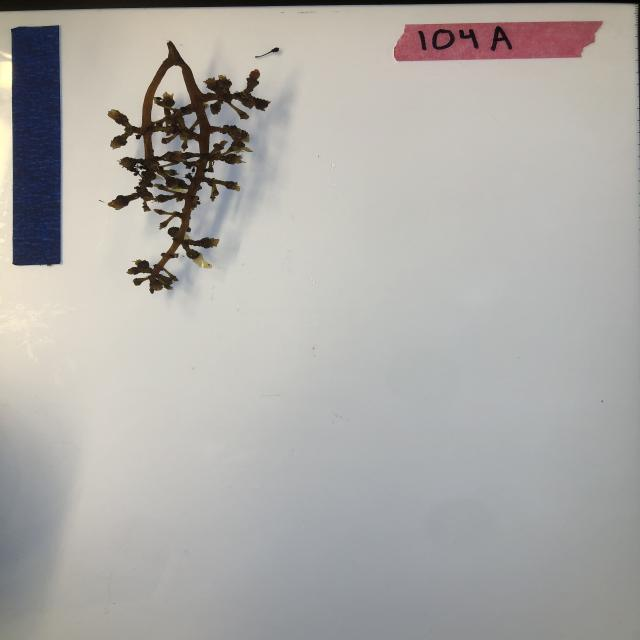index: (394, 22, 603, 60)
measure_label: (11, 26, 62, 267)
rachis_cluster: (100, 36, 272, 297)
